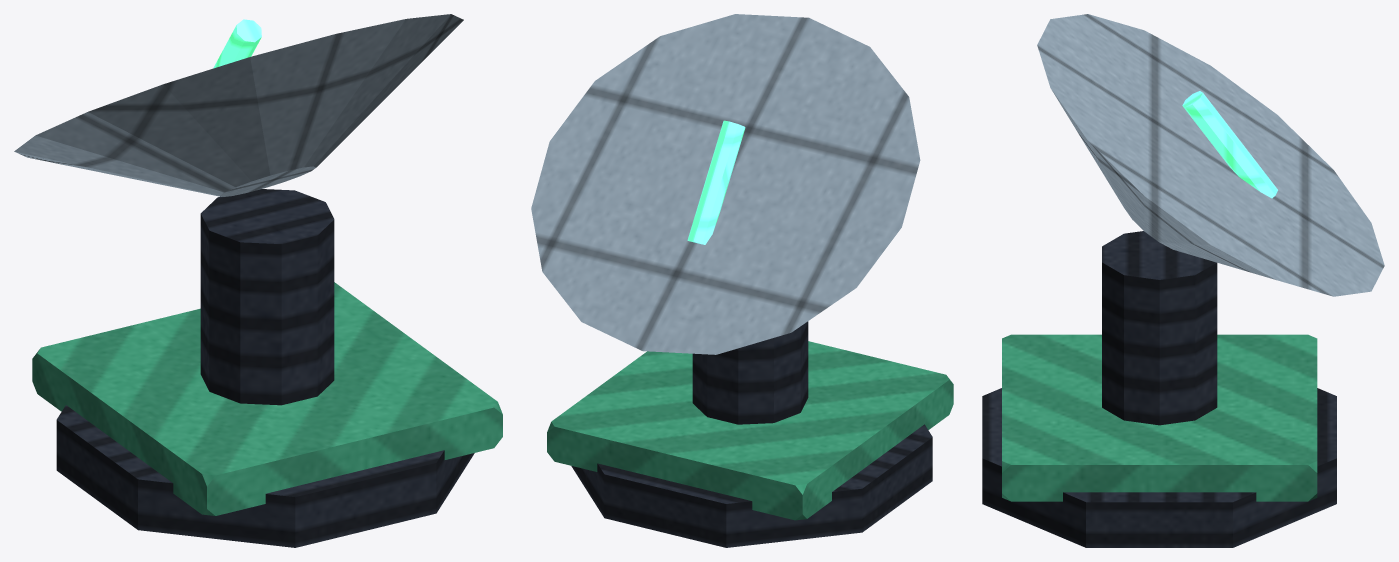
File: eq_radar.glb
3 renders of one model, left to right at view 1: azimuth 30°, elevation 25°; view 2: azimuth 150°, elevation 25°; view 3: azimuth 270°, elevation 25°, orthographic. The views are drawn at different scales.
Parts seen in each view (by area): view 1: eq_radar; view 2: eq_radar; view 3: eq_radar.
Boxes of the visible parts, x1,y1,x2,y2 form: eq_radar: (14, 14, 502, 547); eq_radar: (531, 14, 953, 547); eq_radar: (982, 14, 1384, 547).
Size of the model in its own units: 1.68 by 1.87 by 1.59.
1 material, 1 textured.
